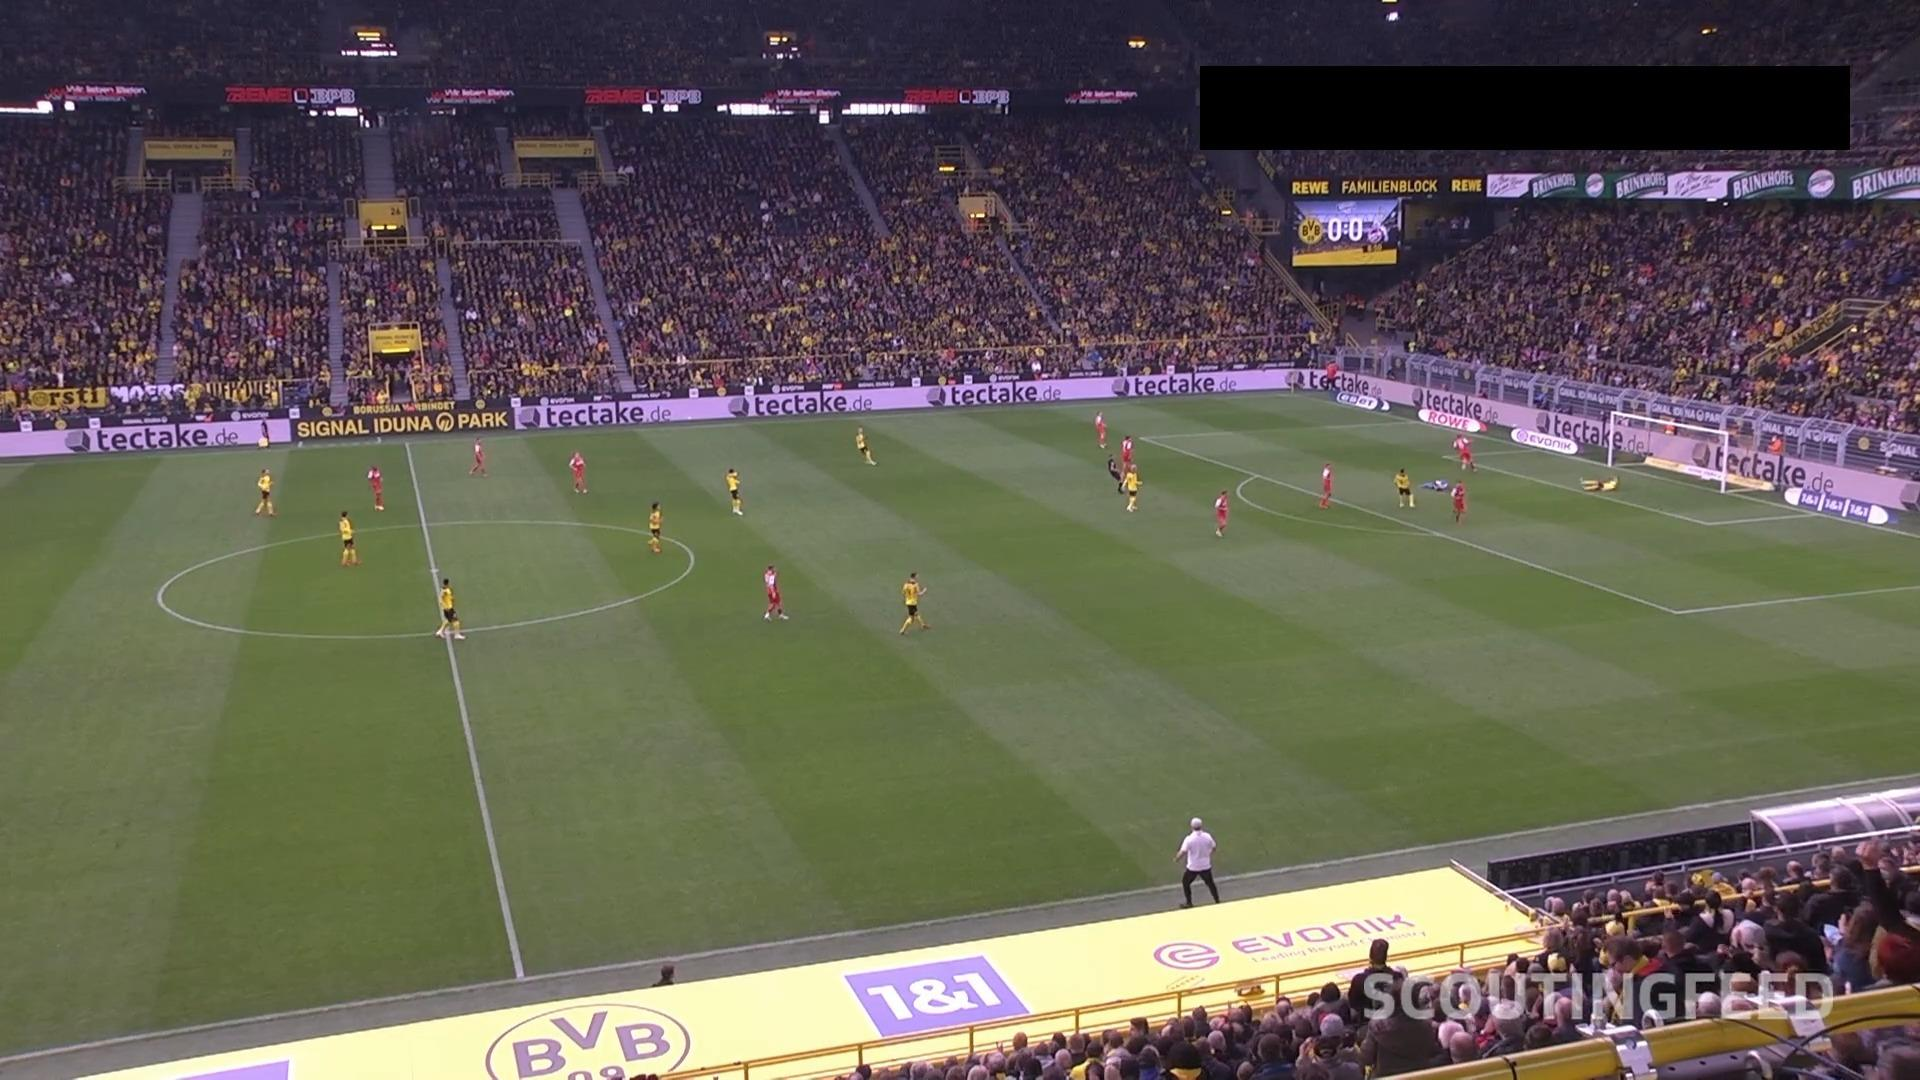player: (898, 570, 930, 634), (434, 577, 466, 640), (761, 563, 788, 620), (337, 509, 358, 566), (1575, 474, 1625, 497), (253, 467, 275, 515), (724, 466, 744, 516), (365, 463, 385, 511), (1120, 463, 1140, 511), (854, 424, 876, 465), (646, 501, 663, 553), (1393, 466, 1414, 508), (567, 450, 587, 494), (1452, 432, 1474, 471), (1118, 435, 1134, 488), (1213, 488, 1229, 536), (1450, 479, 1467, 523), (468, 437, 487, 475), (1318, 462, 1333, 508), (1422, 476, 1453, 497), (1094, 410, 1107, 448)
referee: (1172, 815, 1220, 908), (1106, 454, 1122, 491), (256, 419, 270, 448)
